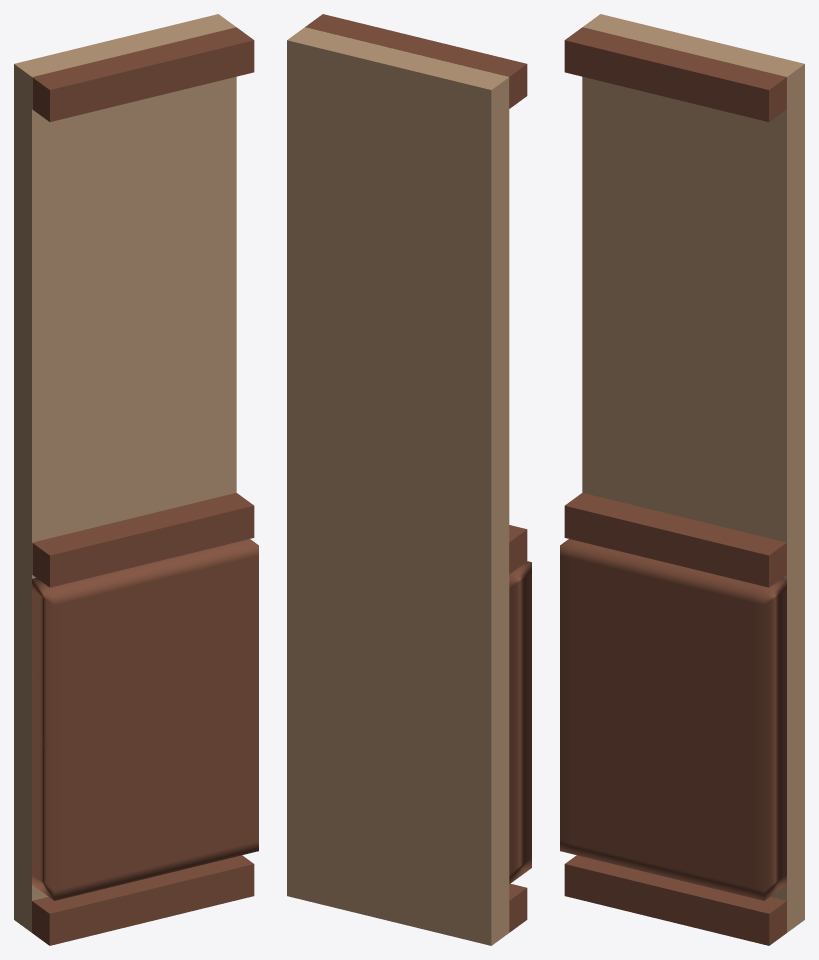
The model's file is Walls.fbx.
3 renders of one model, left to right at view 1: azimuth 30°, elevation 25°; view 2: azimuth 150°, elevation 25°; view 3: azimuth 330°, elevation 25°, orthographic.
Parts seen in each view (by area): view 1: Cube.004; view 2: Cube.004; view 3: Cube.004.
Part boxes in pixels (x1,y1,x2,y2): Cube.004: [14, 14, 258, 945]; Cube.004: [287, 14, 531, 945]; Cube.004: [560, 14, 804, 945].
Bounding box in the file's own units: 100 × 400 × 34.29.
